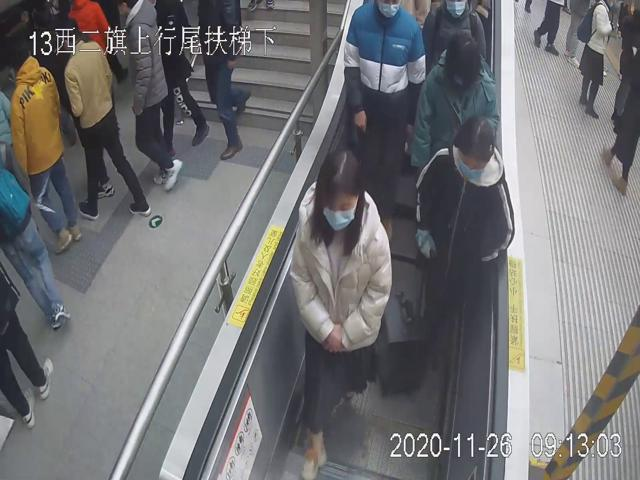person: (290, 145, 393, 480), (414, 113, 515, 376), (53, 14, 151, 219), (8, 32, 83, 255), (410, 28, 503, 172)
